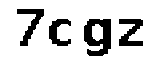7: (10, 5, 46, 49)
c: (47, 17, 75, 49)
g: (79, 15, 113, 60)
z: (116, 17, 152, 51)
